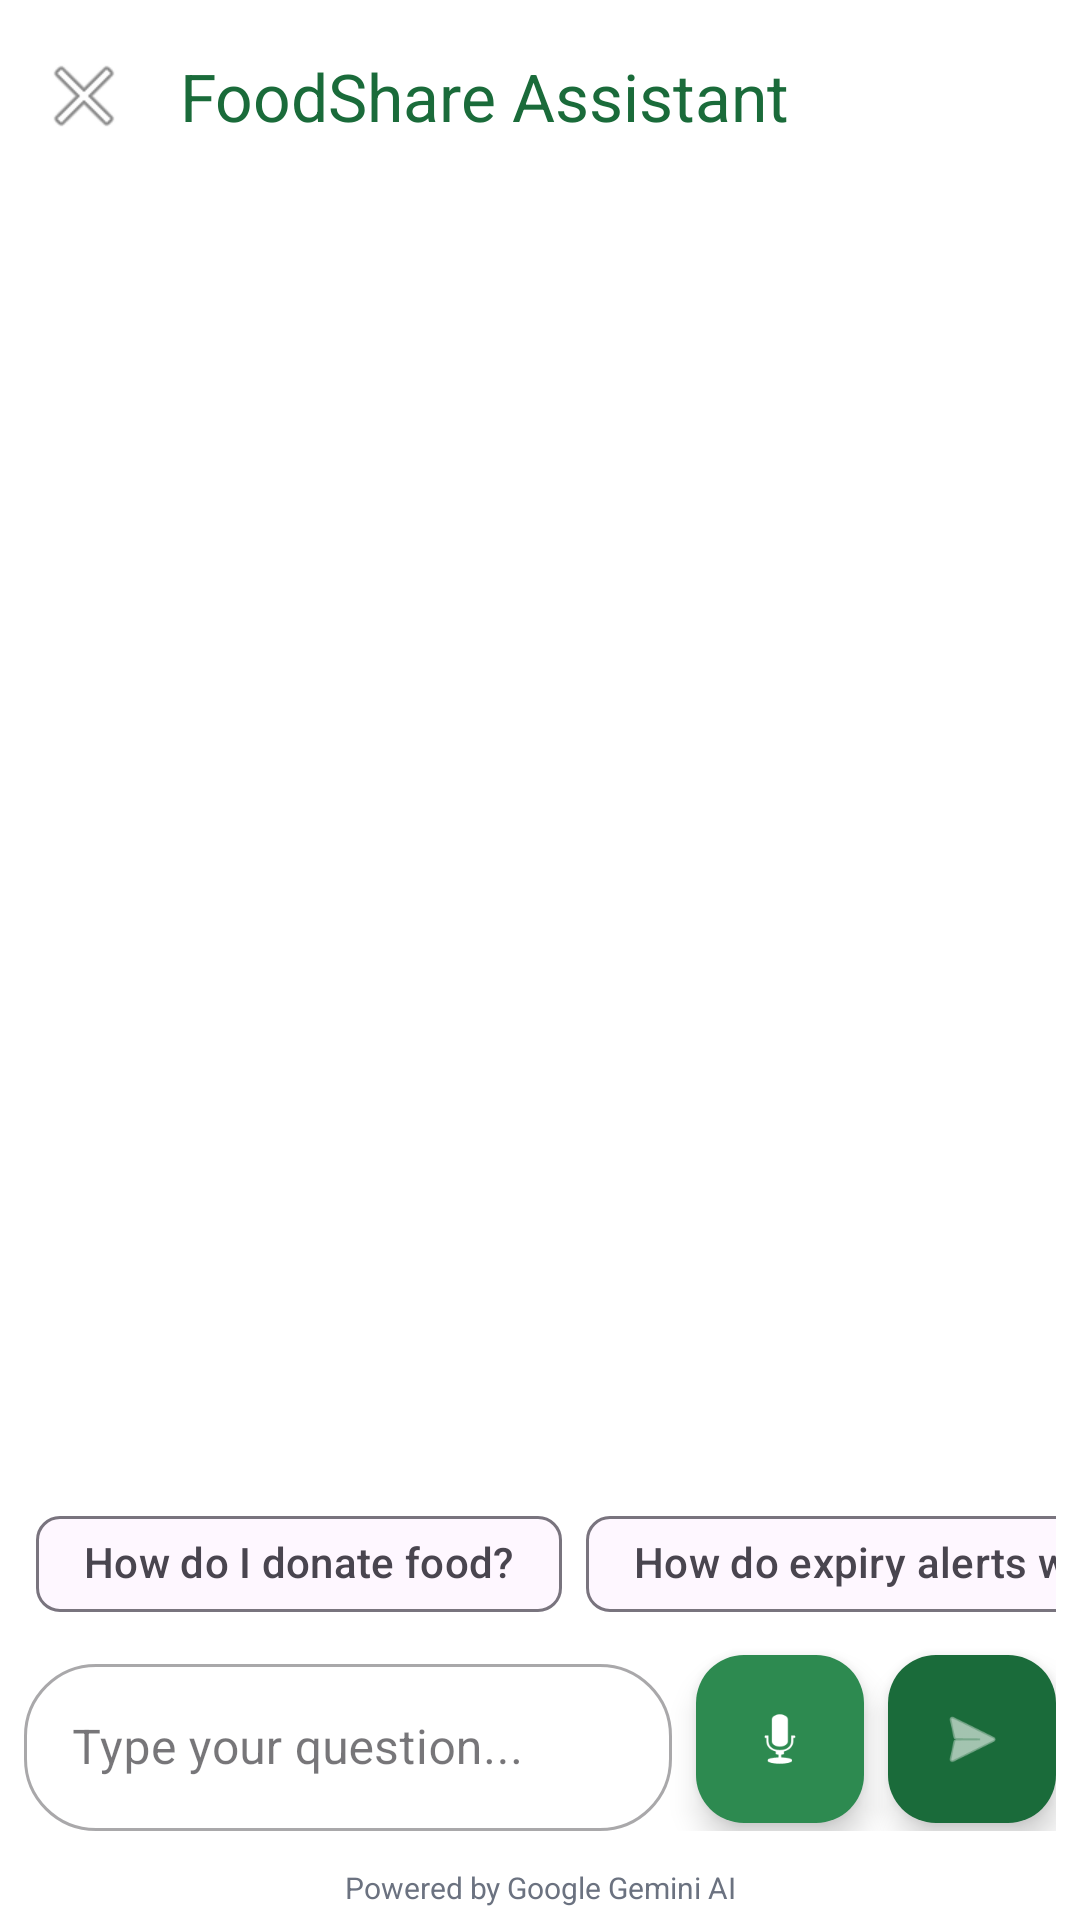

Named icons in this screenshot (1080px×1920px) and their centers, [x,y]:
send: [972,1739]
speak now: [780,1739]
